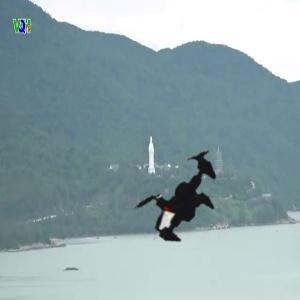drone: (105, 120, 254, 269)
